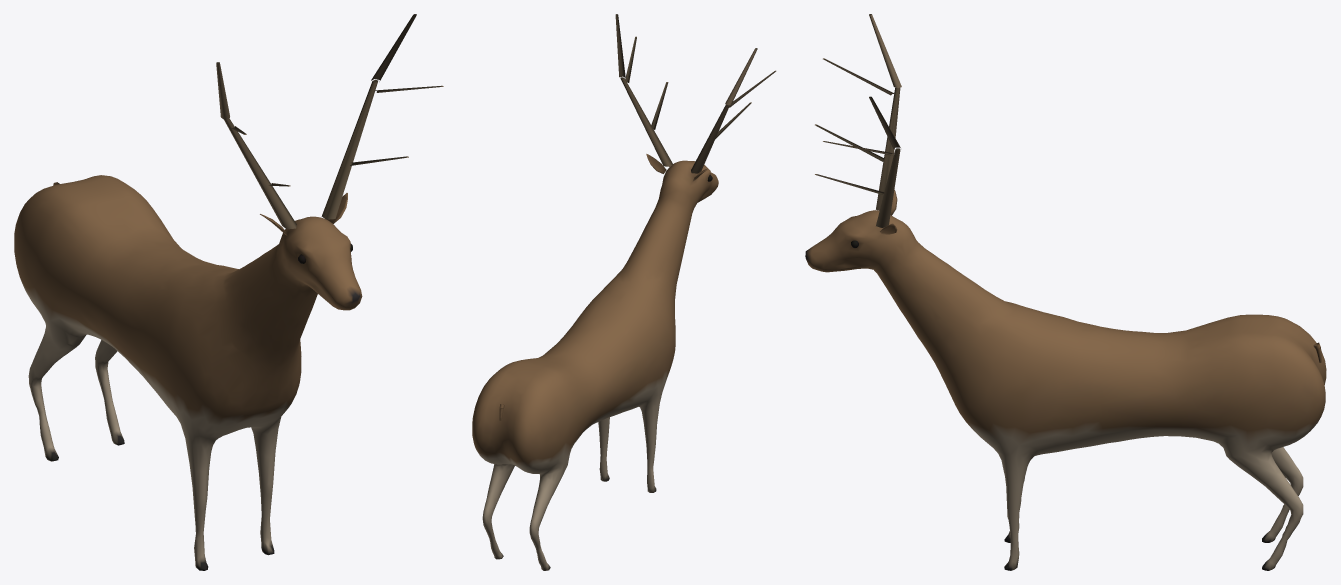
File: hirsch.glb
3 views of the same model, side by side, from view 1: azimuth 30°, elevation 25°; view 2: azimuth 150°, elevation 25°; view 3: azimuth 270°, elevation 25° (orthographic). The views are drawn at different scales.
Visible parts, largest first — view 1: lack; view 2: lack; view 3: lack.
Boxes of the visible parts, x1,y1,x2,y2 form: lack: (14, 14, 443, 570); lack: (472, 14, 776, 570); lack: (805, 14, 1326, 570).
Size of the model in its own units: 1.02 by 2.83 by 2.67.
